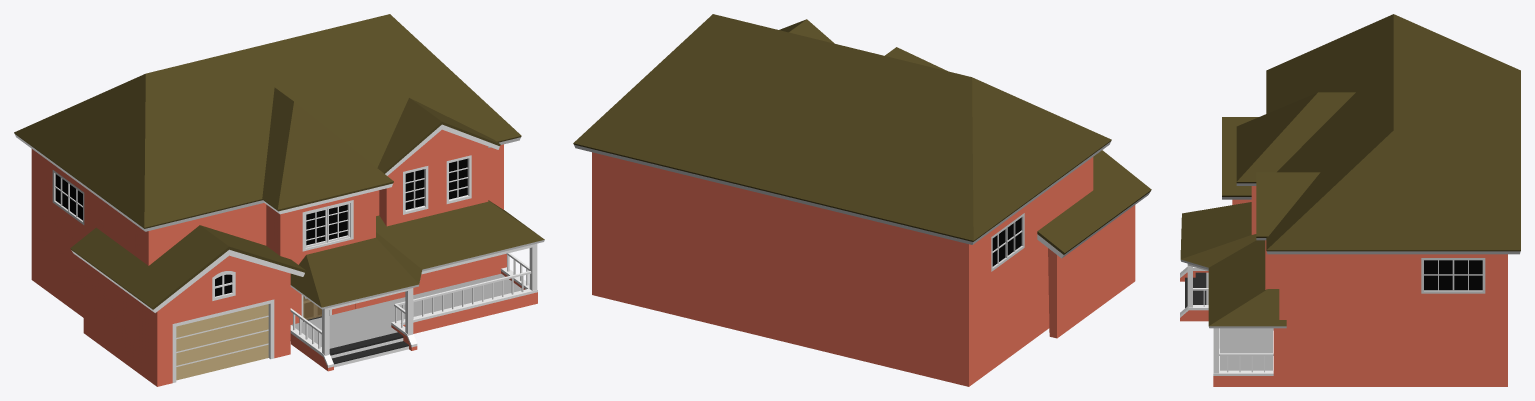
File: House-32.fbx
3 renders of one model, left to right at view 1: azimuth 30°, elevation 25°; view 2: azimuth 150°, elevation 25°; view 3: azimuth 270°, elevation 25°, orthographic. The views are drawn at different scales.
Parts seen in each view (by area): view 1: House-20-f; view 2: House-20-f; view 3: House-20-f.
Part boxes in pixels (left/top/right/bottom): House-20-f: left=14, top=14, right=544, bottom=386; House-20-f: left=573, top=14, right=1151, bottom=386; House-20-f: left=1180, top=14, right=1520, bottom=386.
Size of what is drawn, in the model's own units: 19.64 by 11.27 by 15.14.
